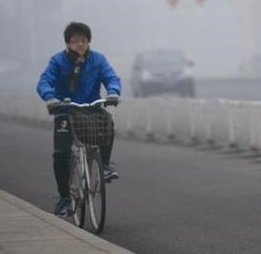person: (35, 19, 123, 235)
